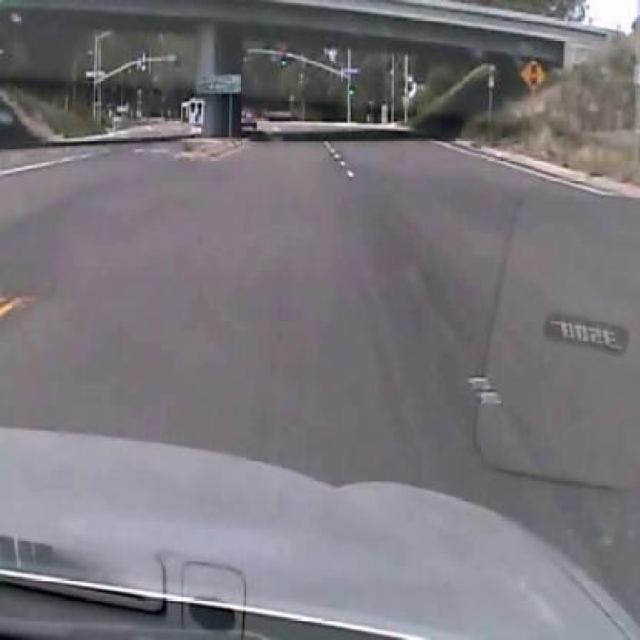signalAhead: (518, 55, 547, 93)
